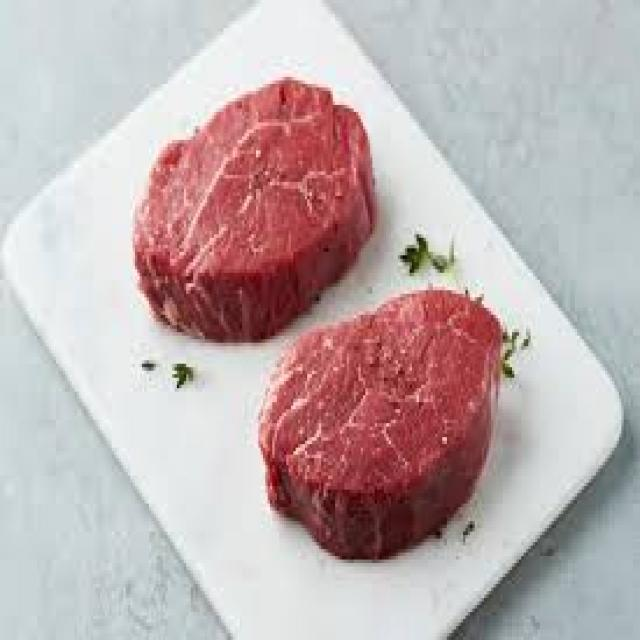beef: (261, 290, 505, 560), (133, 77, 375, 341)
